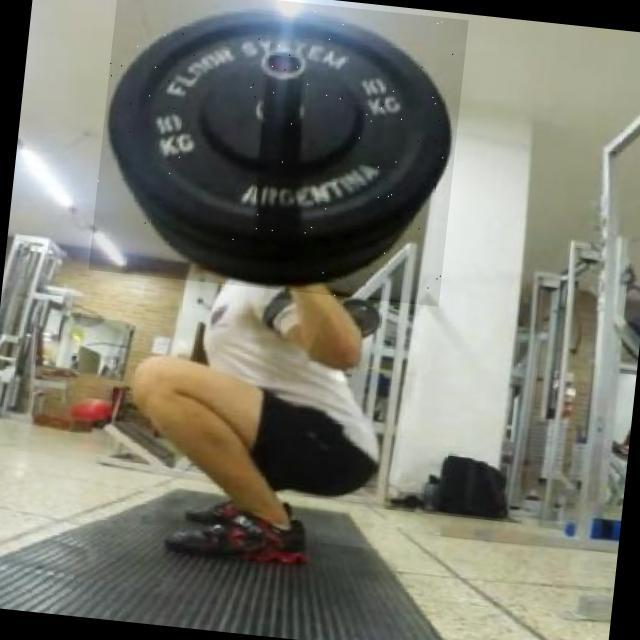barbell: (89, 1, 469, 307)
